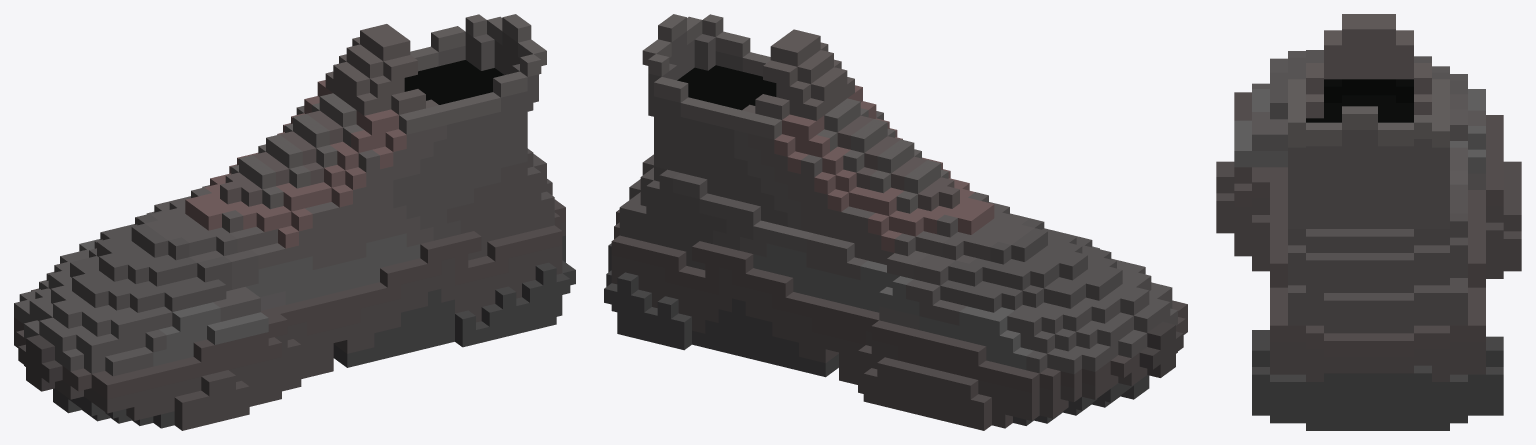
File: Special Slate.fbx
3 renders of one model, left to right at view 1: azimuth 30°, elevation 25°; view 2: azimuth 150°, elevation 25°; view 3: azimuth 270°, elevation 25°, orthographic. The views are drawn at different scales.
Visible parts, largest first — view 1: Untitled; view 2: Untitled; view 3: Untitled.
Part boxes in pixels (box(x1,y1,x2,y2)): Untitled: box(14, 14, 575, 430); Untitled: box(604, 14, 1187, 430); Untitled: box(1216, 14, 1521, 430).
Bounding box in the file's own units: 390 × 200 × 170.
